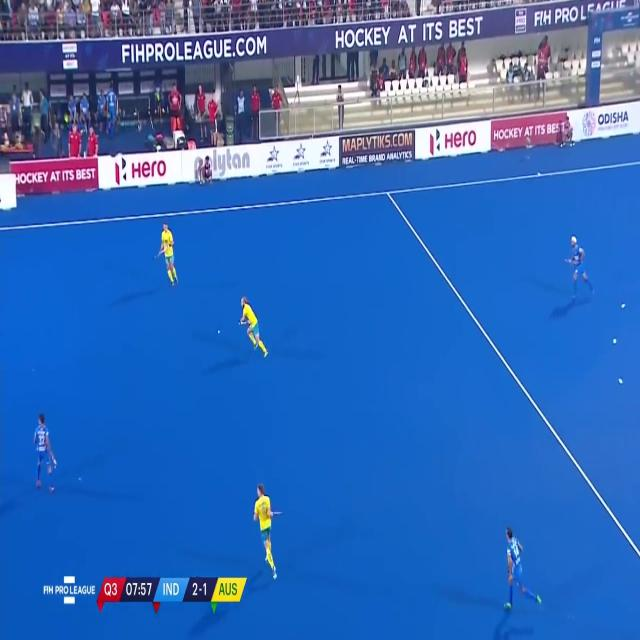ball: (217, 327, 222, 335)
